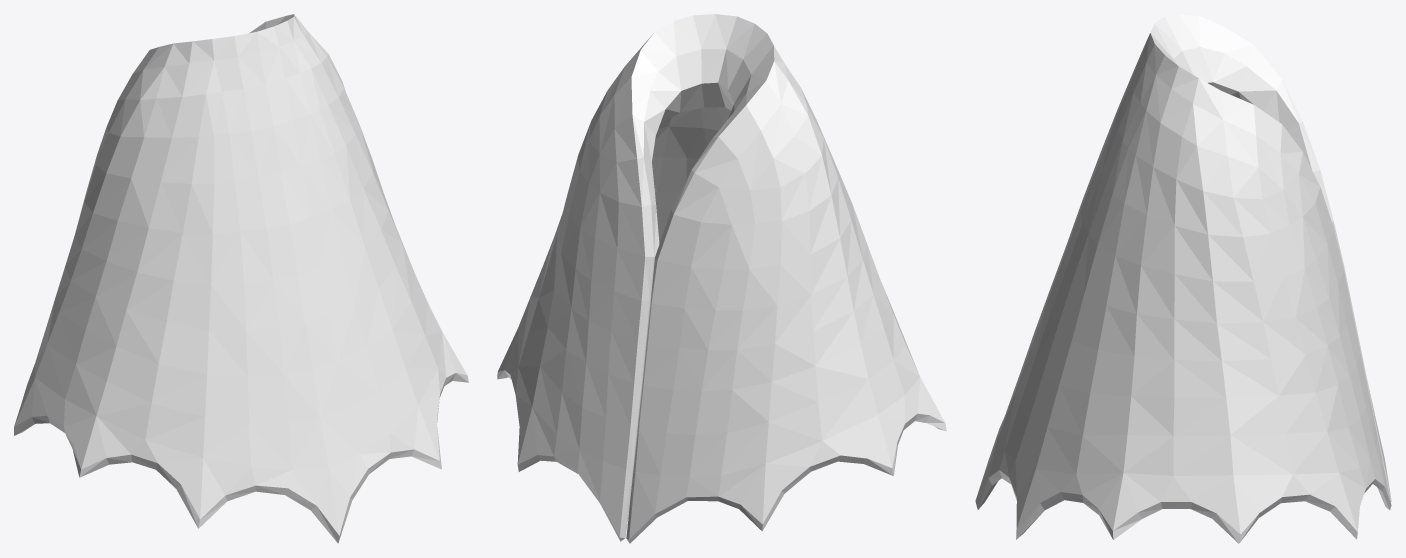
The model's file is CharSkyKid_Wing_Bat.glb.
3 views of the same model, side by side, from view 1: azimuth 30°, elevation 25°; view 2: azimuth 150°, elevation 25°; view 3: azimuth 270°, elevation 25° (orthographic). The views are drawn at different scales.
Visible parts, largest first — view 1: CharSkyKid_Wing_Bat; view 2: CharSkyKid_Wing_Bat; view 3: CharSkyKid_Wing_Bat.
Part boxes in pixels (box(x1,y1,x2,y2)): CharSkyKid_Wing_Bat: box(14, 14, 468, 543); CharSkyKid_Wing_Bat: box(497, 14, 946, 543); CharSkyKid_Wing_Bat: box(975, 14, 1391, 543).
Size of the model in its own units: 6.66 by 7.16 by 5.65.
1 material, 1 textured.
